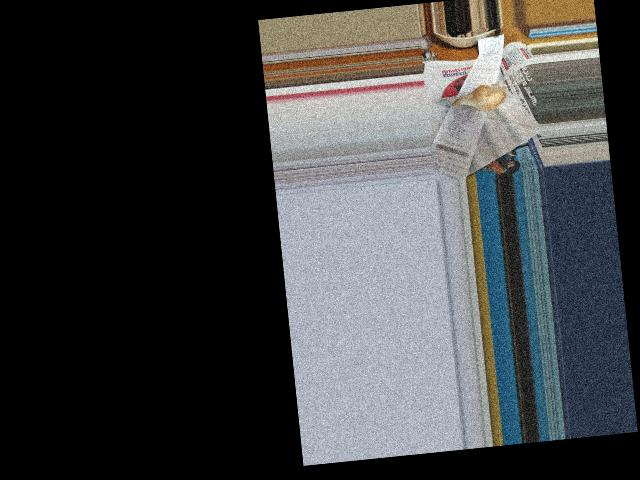onion: (466, 84, 507, 113)
